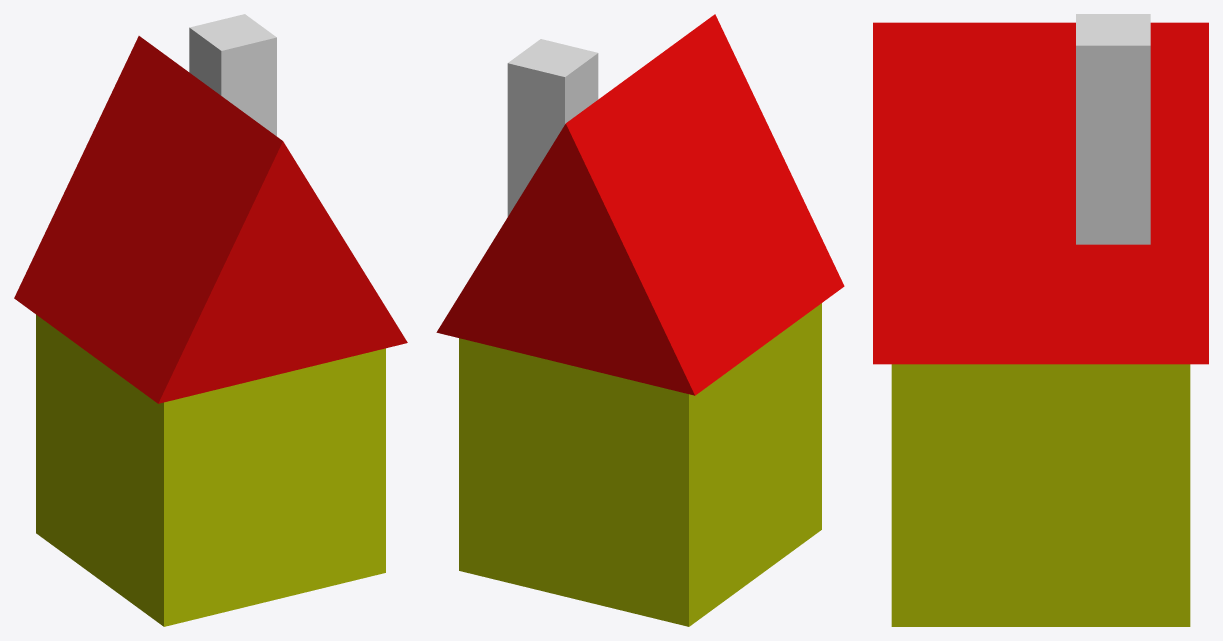
The model's file is simpleHouse.dae.
3 renders of one model, left to right at view 1: azimuth 30°, elevation 25°; view 2: azimuth 150°, elevation 25°; view 3: azimuth 270°, elevation 25°, orthographic. The views are drawn at different scales.
Visible parts, largest first — view 1: Roof, House, Cube; view 2: Roof, House, Cube; view 3: Roof, House, Cube.
Boxes of the visible parts, bbox=[...] form: Roof: bbox=[14, 36, 407, 403]; House: bbox=[36, 314, 385, 626]; Cube: bbox=[189, 14, 276, 136]; Roof: bbox=[436, 14, 844, 395]; House: bbox=[459, 303, 821, 626]; Cube: bbox=[507, 39, 598, 216]; Roof: bbox=[873, 22, 1208, 364]; House: bbox=[891, 364, 1190, 626]; Cube: bbox=[1076, 14, 1150, 244].
Bounding box in the file's own units: 2.25 × 2.25 × 4.17.
